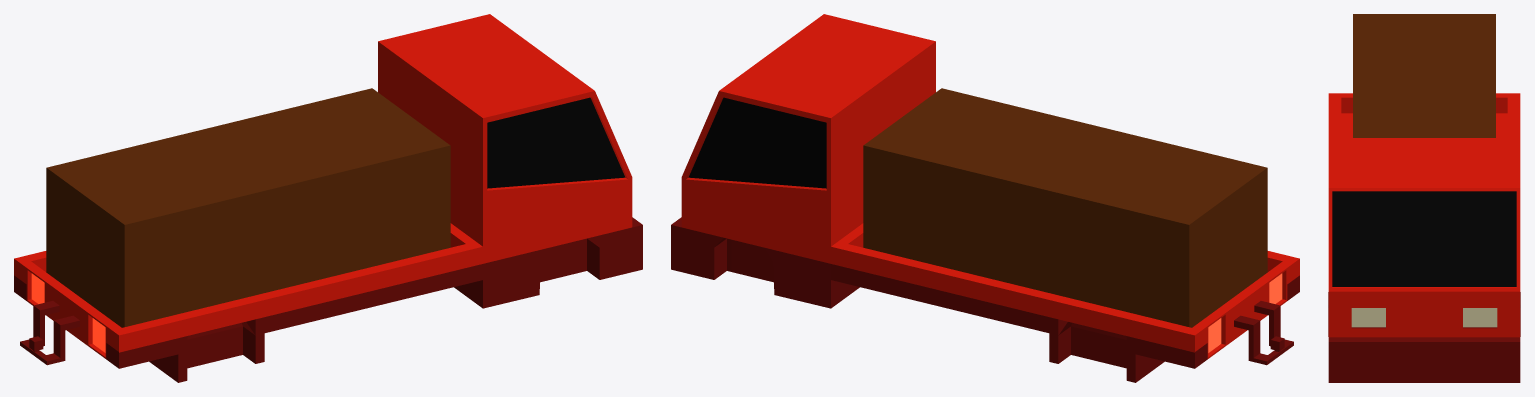
Rendered from carryTruck.fbx.
The picture shows the model from 3 angles, left to right: view 1: azimuth 30°, elevation 25°; view 2: azimuth 150°, elevation 25°; view 3: azimuth 270°, elevation 25°; orthographic projection. The views are drawn at different scales.
Visible parts, largest first — view 1: Cube.001; view 2: Cube.001; view 3: Cube.001.
Part boxes in pixels (bbox=[...]): Cube.001: bbox=[14, 14, 642, 382]; Cube.001: bbox=[671, 14, 1299, 382]; Cube.001: bbox=[1328, 14, 1520, 382].
Bounding box in the file's own units: 614 × 200 × 201.
